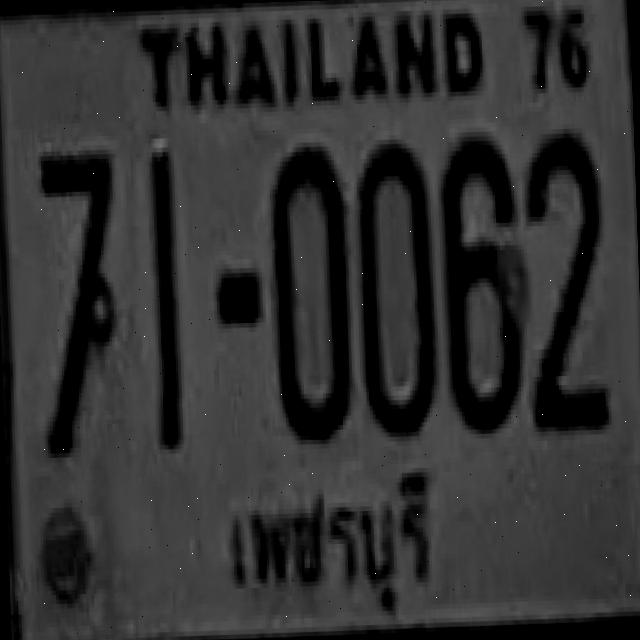0: (266, 144, 350, 438), (354, 140, 436, 436)
1: (146, 149, 183, 447)
2: (520, 128, 606, 426)
6: (437, 130, 523, 430)
7: (34, 147, 121, 456)
Phetchaburi: (216, 460, 444, 634)
